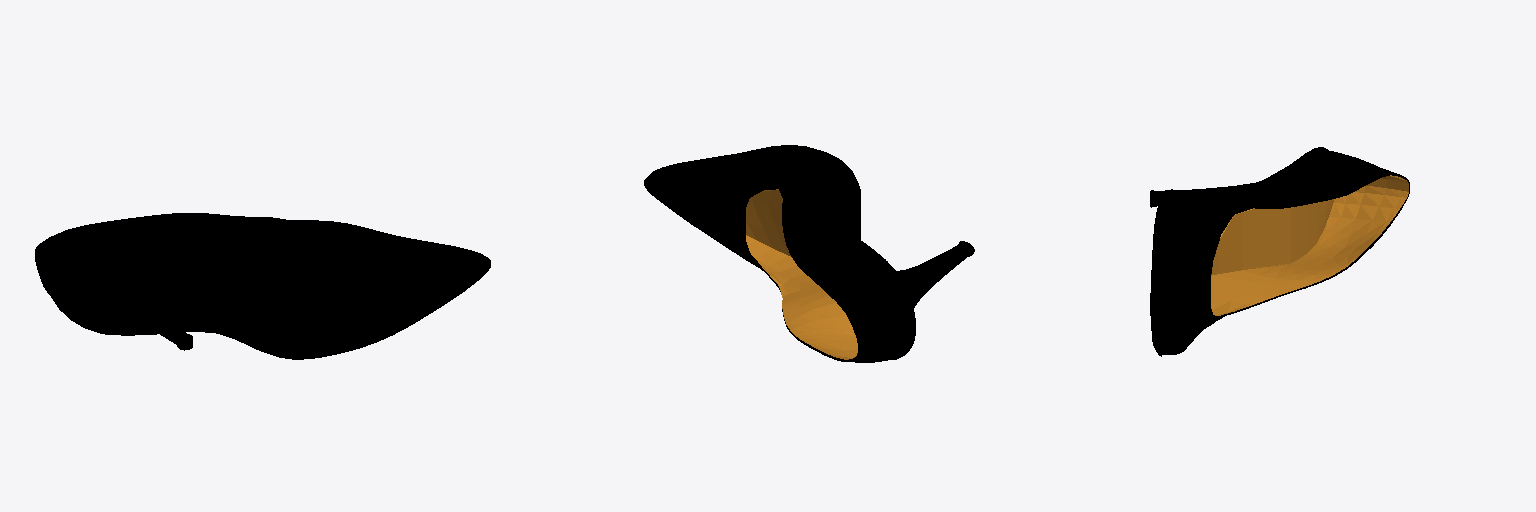
Rendered from Heels.obj.
3 views of the same model, side by side, from view 1: azimuth 30°, elevation 25°; view 2: azimuth 150°, elevation 25°; view 3: azimuth 270°, elevation 25° (orthographic).
Parts seen in each view (by area): view 1: Heels.002; view 2: Heels.002; view 3: Heels.002.
Part boxes in pixels (x1,y1,x2,y2): Heels.002: (35,213,490,359); Heels.002: (644,145,974,362); Heels.002: (1150,147,1409,356).
Bounding box in the file's own units: 305 × 99.81 × 195.